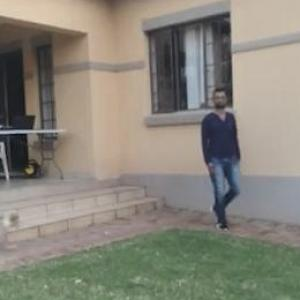follow: (189, 79, 237, 236)
